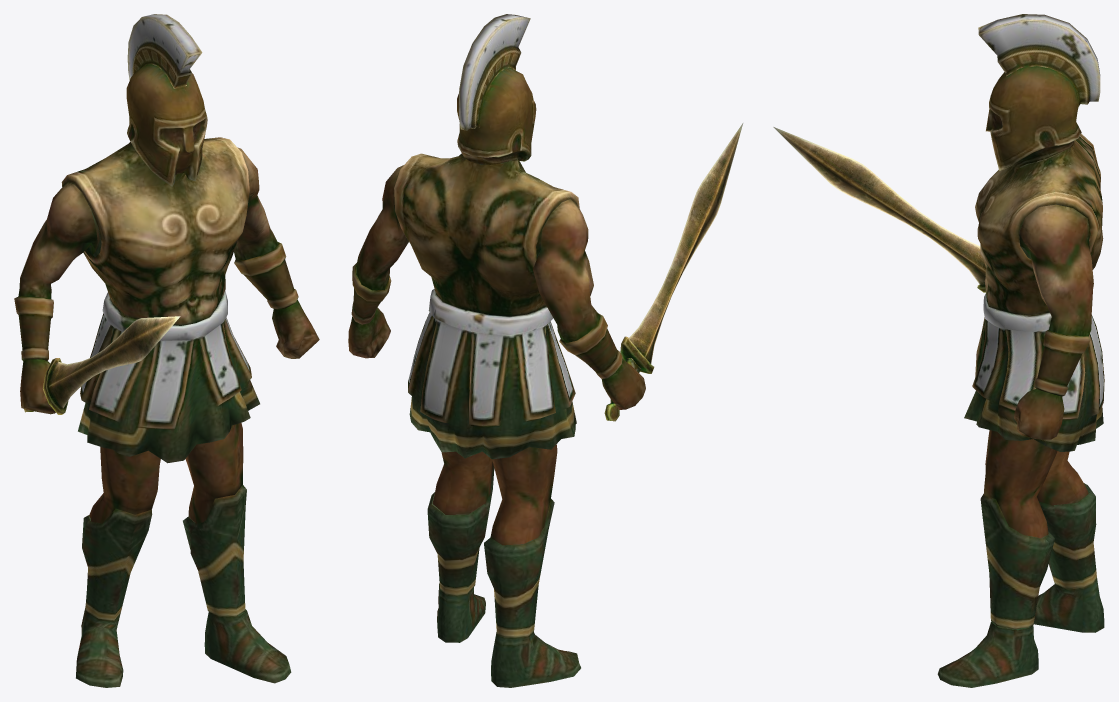
The model's file is 99-colossus.glb.
3 renders of one model, left to right at view 1: azimuth 30°, elevation 25°; view 2: azimuth 150°, elevation 25°; view 3: azimuth 270°, elevation 25°, orthographic. The views are drawn at different scales.
Bounding box in the file's own units: 2.6 × 5.41 × 2.59.
2 materials, 2 textured.
